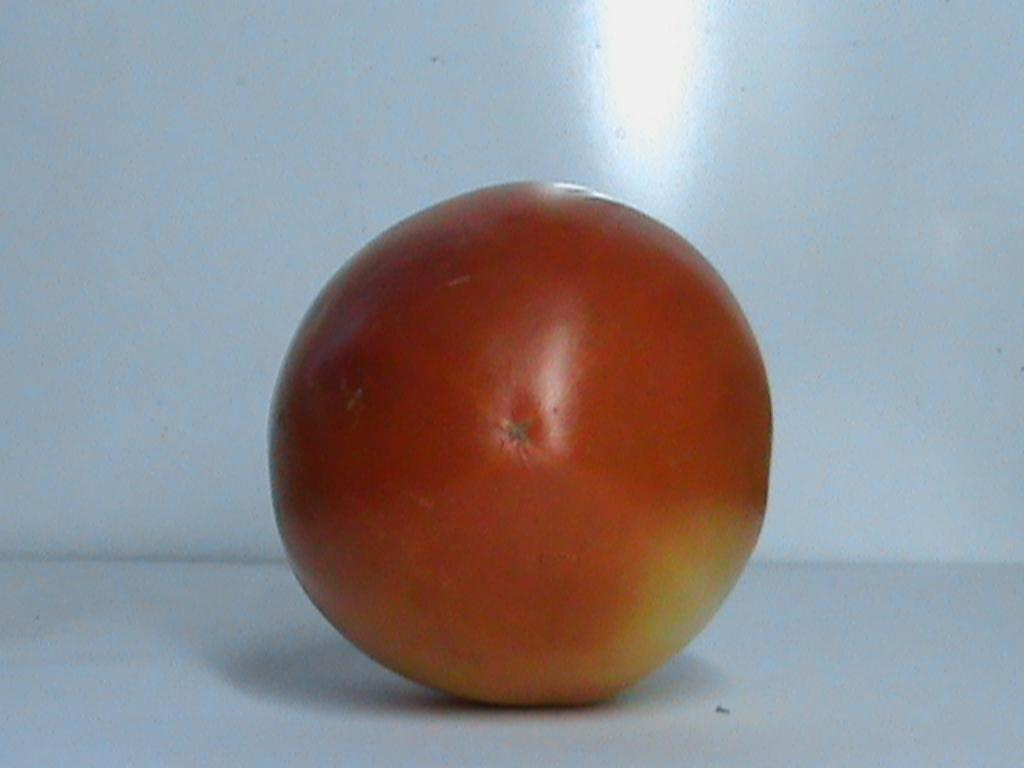bruise_discoloration: (602, 509, 763, 692)
tomato: (272, 184, 770, 702)
